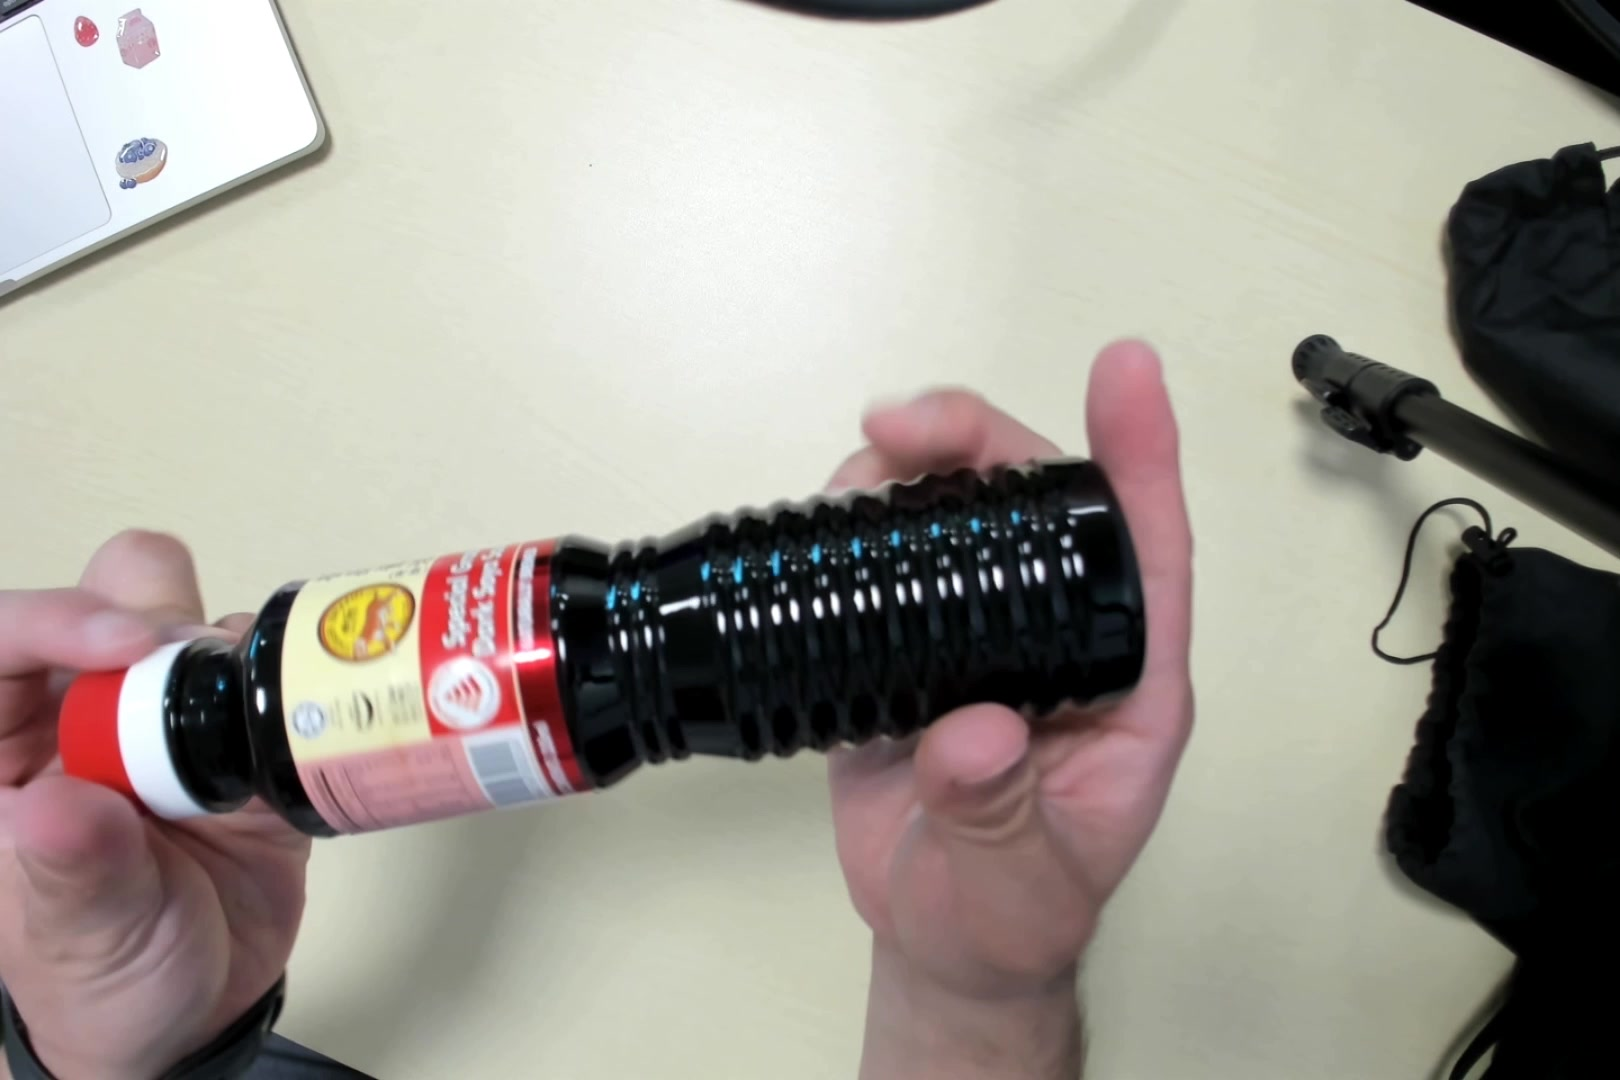DarkSoySauce_300-399g_Halal_NonHealthy: (57, 452, 1146, 829)
